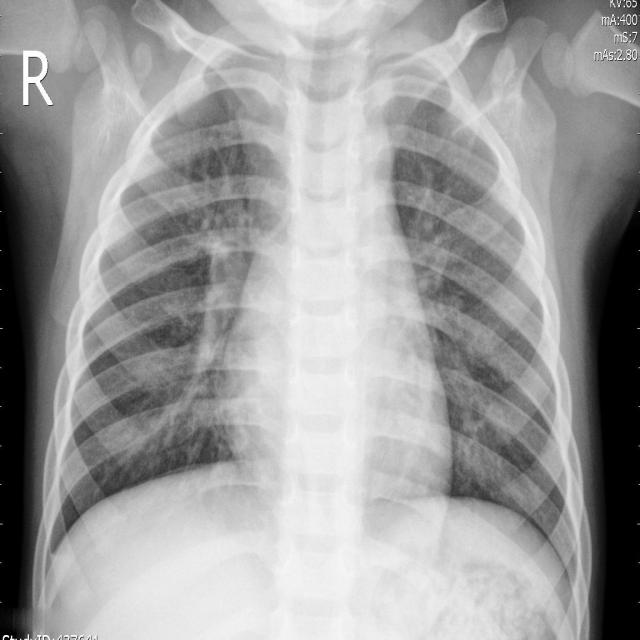low-pneumonia: (163, 175, 253, 452), (415, 182, 497, 479)
